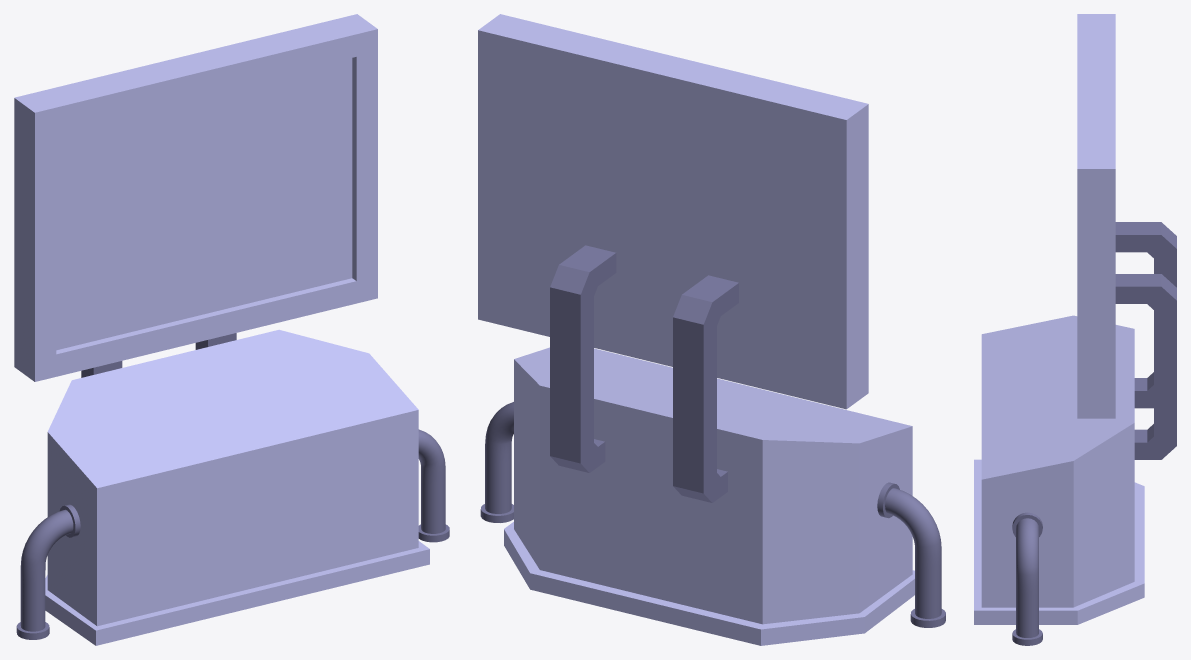
Rendered from roverConsole.gltf.
3 renders of one model, left to right at view 1: azimuth 30°, elevation 25°; view 2: azimuth 150°, elevation 25°; view 3: azimuth 270°, elevation 25°, orthographic. The views are drawn at different scales.
Visible parts, largest first — view 1: pCube11, pCube8, pCylinder16, pCylinder15; view 2: pCube11, pCube8, pCube9, pCube10, pCylinder16, pCylinder15; view 3: pCube8, pCube11, pCube9, pCylinder15, pCube10.
Part boxes in pixels (x1,y1,x2,y2): pCube11: [14, 14, 377, 381]; pCube8: [45, 329, 429, 645]; pCylinder16: [16, 504, 80, 639]; pCylinder15: [418, 429, 449, 542]; pCube11: [478, 14, 868, 409]; pCube8: [504, 347, 914, 645]; pCube9: [550, 245, 616, 472]; pCube10: [673, 275, 738, 502]; pCylinder16: [877, 482, 945, 627]; pCylinder15: [480, 402, 513, 522]; pCube8: [974, 315, 1144, 624]; pCube11: [1077, 14, 1115, 418]; pCube9: [1115, 274, 1176, 459]; pCylinder15: [1012, 512, 1042, 645]; pCube10: [1115, 222, 1176, 408].
Size of the model in its own units: 6 by 6.6 by 2.65.
